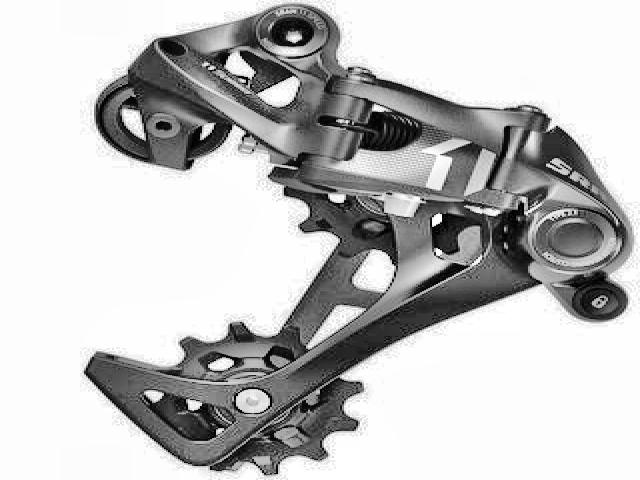rear_derailleur: (84, 2, 632, 480)
